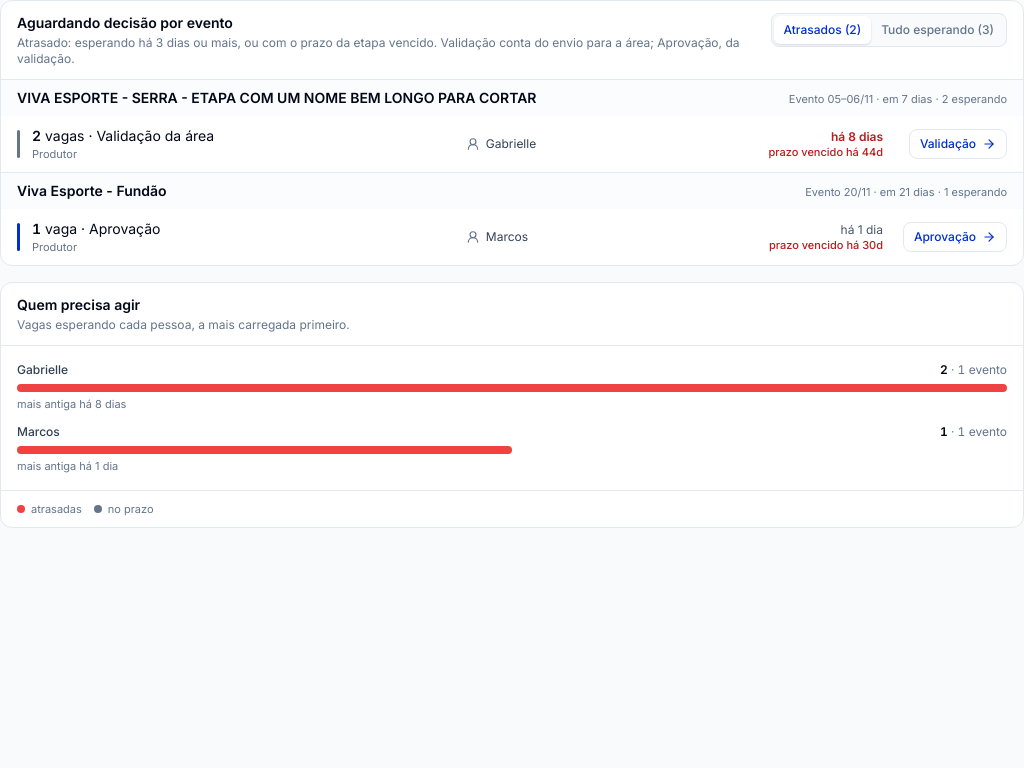
it: Aguardando decisão › abre em Atrasados; Tudo esperando mostra também o que está no prazo
This screenshot has width=1024, height=768.
Expected: the list item with test id "evento-espera-serra" is shown, [1, 80, 1023, 173]
Expected: the list item with test id "espera-validacao-serra" shows "há 8 dias", [831, 128, 883, 144]
Click the tab with test id "filtro-espera-todos".
click(938, 30)  # box [871, 16, 1004, 44]
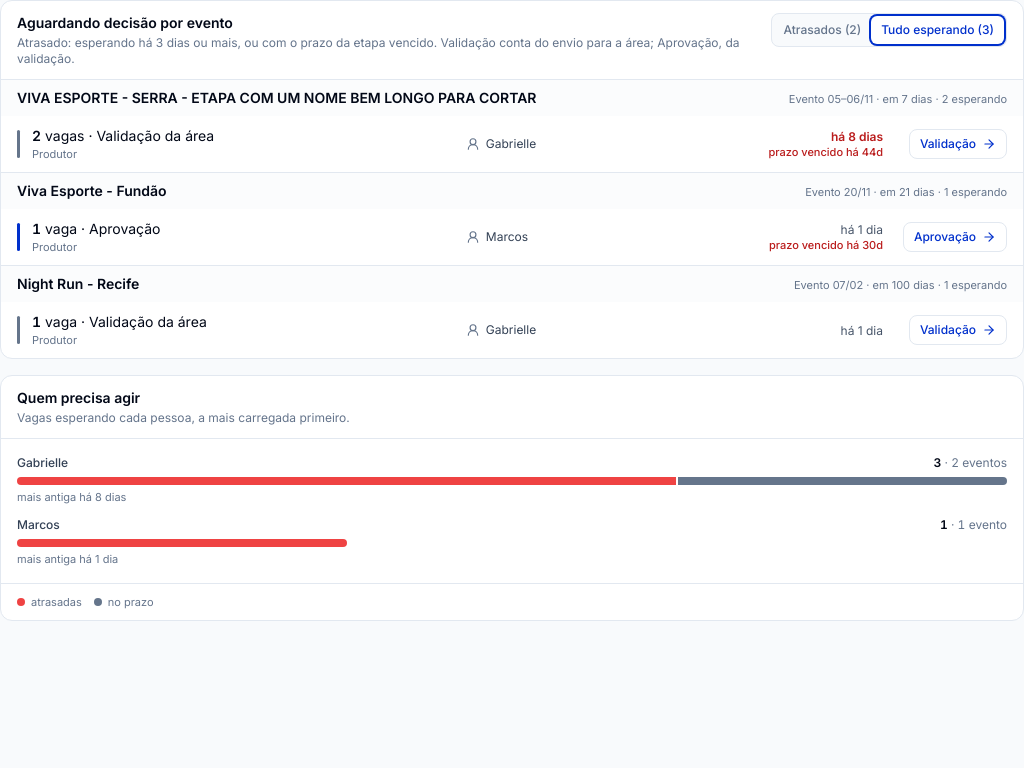
Result: the list item with test id "evento-espera-recife" is shown at [1, 266, 1023, 358]
